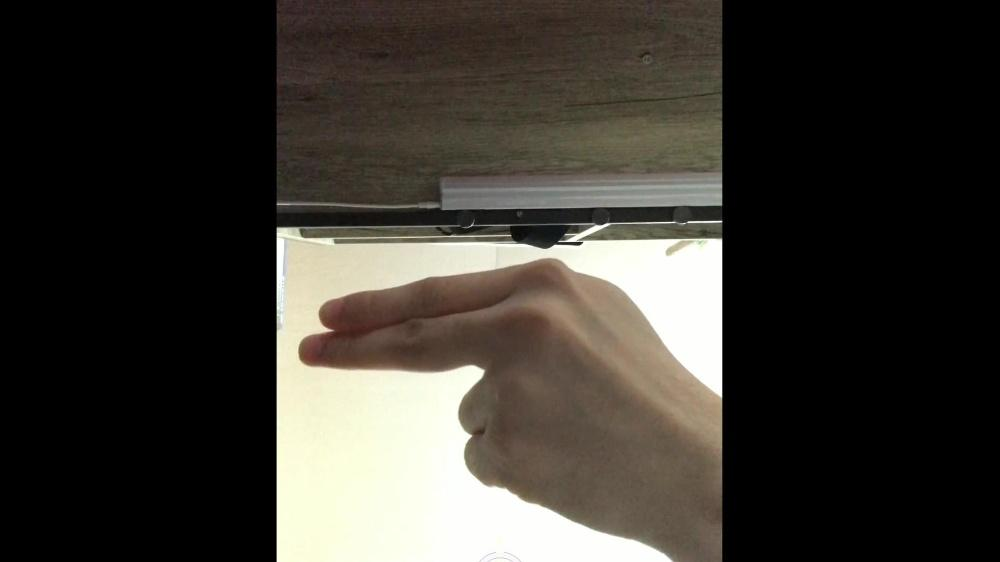h: (297, 257, 668, 527)
